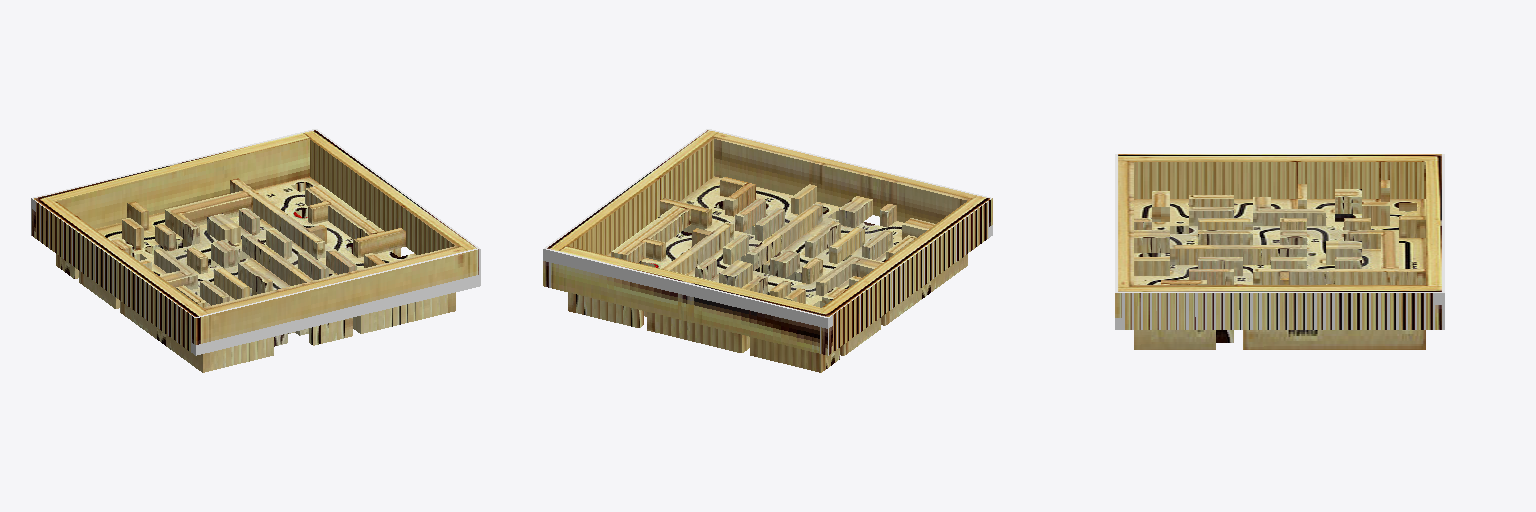
3 renders of one model, left to right at view 1: azimuth 30°, elevation 25°; view 2: azimuth 150°, elevation 25°; view 3: azimuth 270°, elevation 25°, orthographic.
Parts seen in each view (by area): view 1: Grid; view 2: Grid; view 3: Grid.
Part boxes in pixels (bbox=[...]): Grid: bbox=[31, 129, 480, 372]; Grid: bbox=[543, 129, 992, 372]; Grid: bbox=[1115, 154, 1444, 349].
Bounding box in the file's own units: 20 × 4.36 × 20.
1 materials, 1 textured.